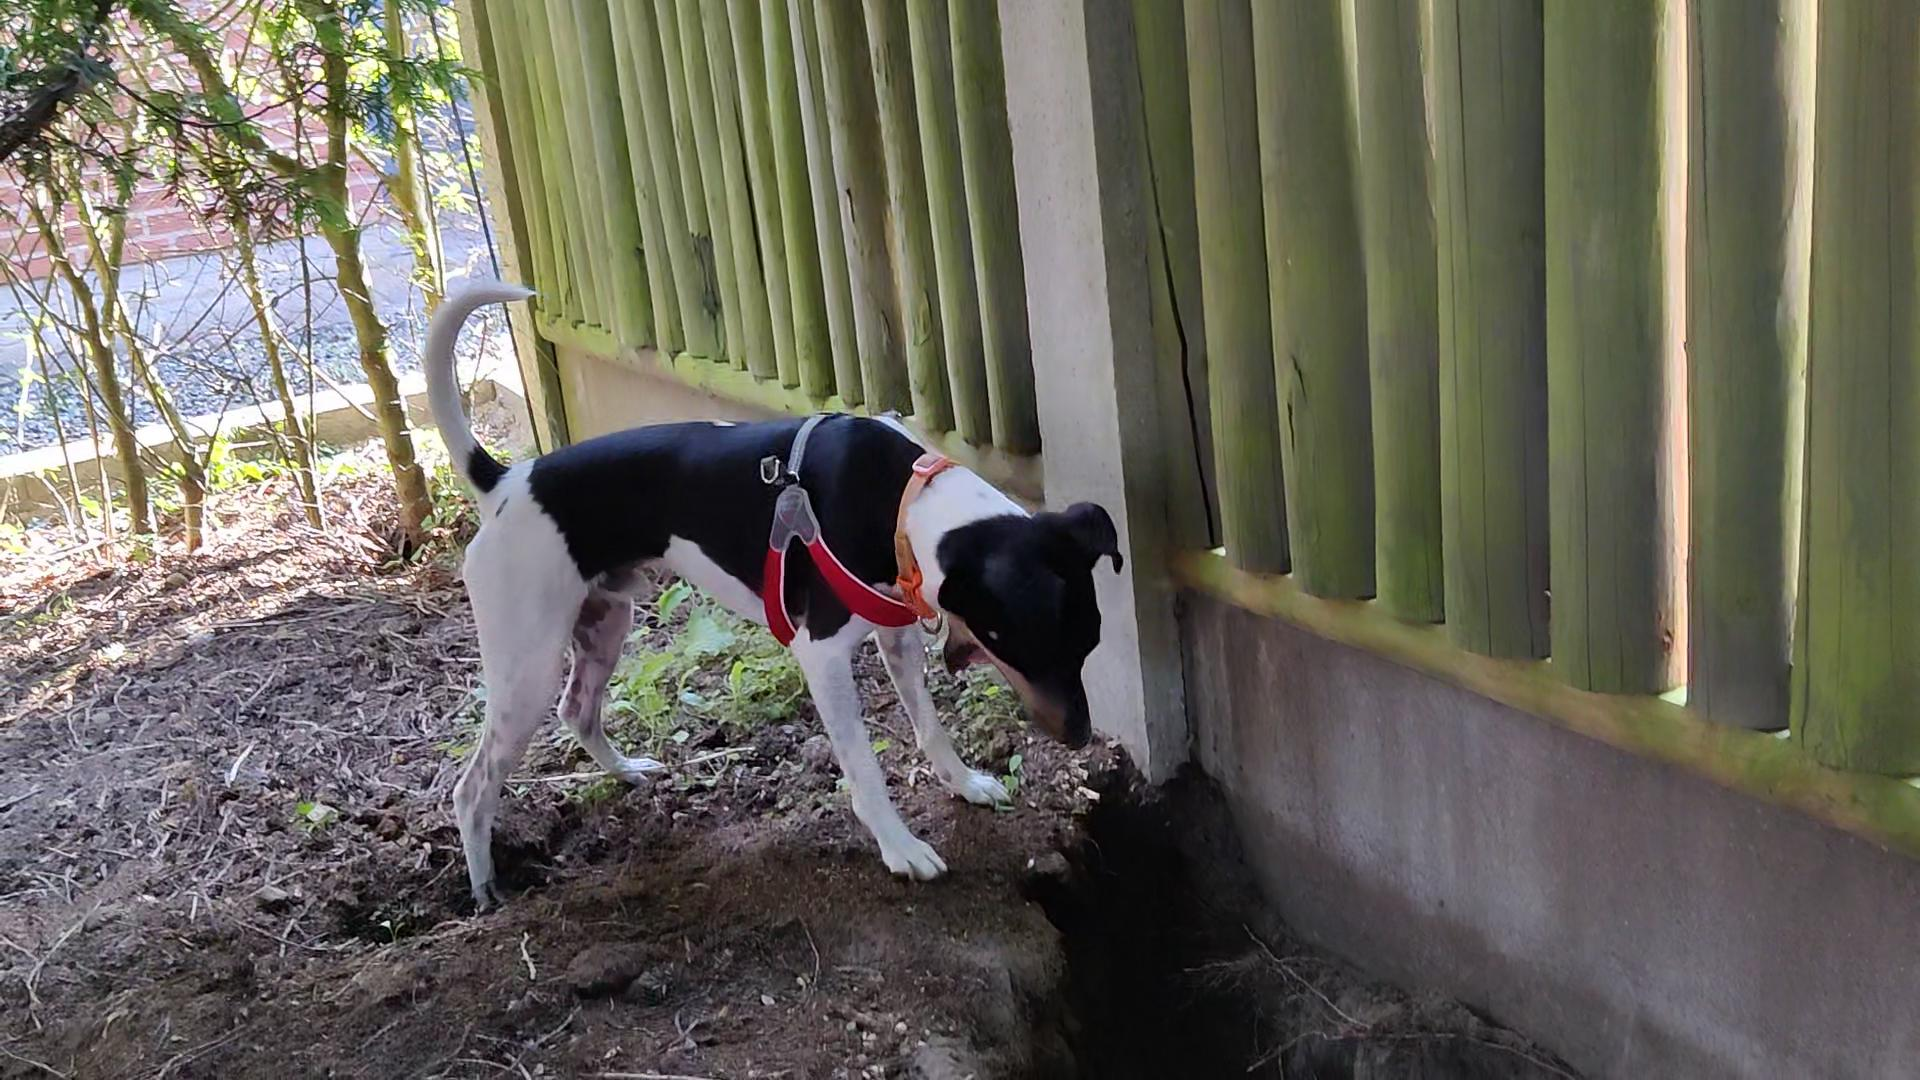Dog: (410, 276, 1139, 919)
